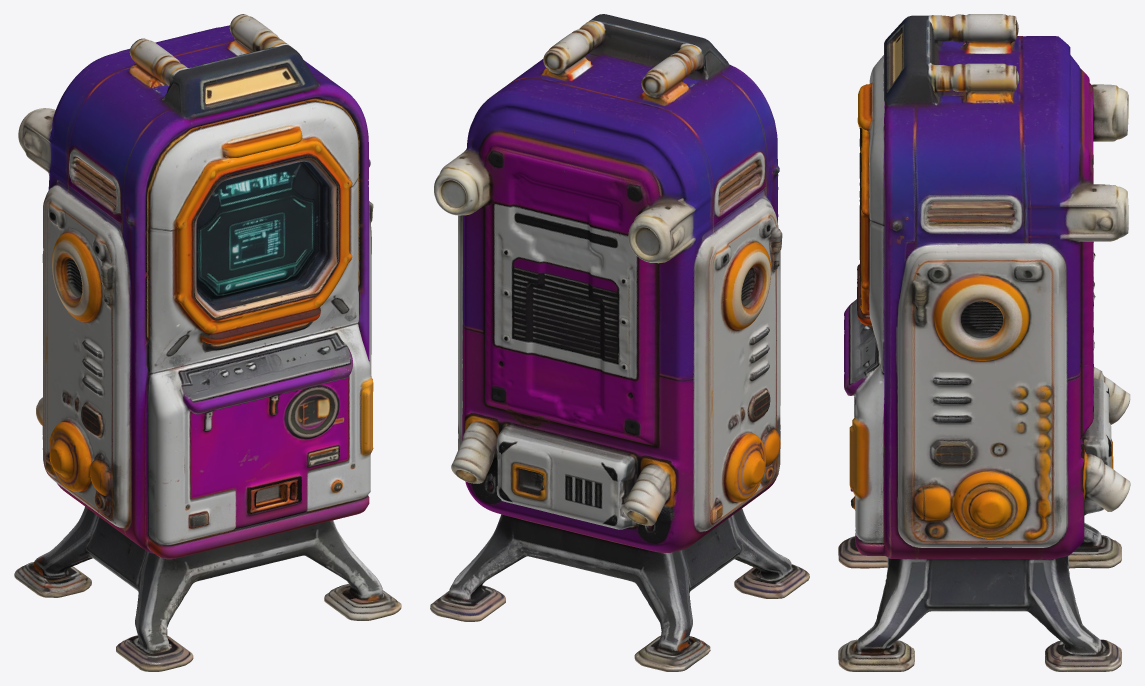
The model's file is vendingMachineHP.glb.
3 views of the same model, side by side, from view 1: azimuth 30°, elevation 25°; view 2: azimuth 150°, elevation 25°; view 3: azimuth 270°, elevation 25° (orthographic). The views are drawn at different scales.
Visible parts, largest first — view 1: Object_5, Object_6; view 2: Object_5, Object_6; view 3: Object_5, Object_6.
Boxes of the visible parts, box(x1,y1,x2,y2) form: Object_5: box(14, 14, 401, 671); Object_6: box(18, 17, 373, 607); Object_5: box(430, 14, 809, 671); Object_6: box(434, 14, 780, 583); Object_5: box(838, 14, 1130, 671); Object_6: box(844, 15, 1130, 460).
Size of the model in its own units: 1.06 by 1.91 by 0.8921.
Materials: 1 (1 with a texture image).
